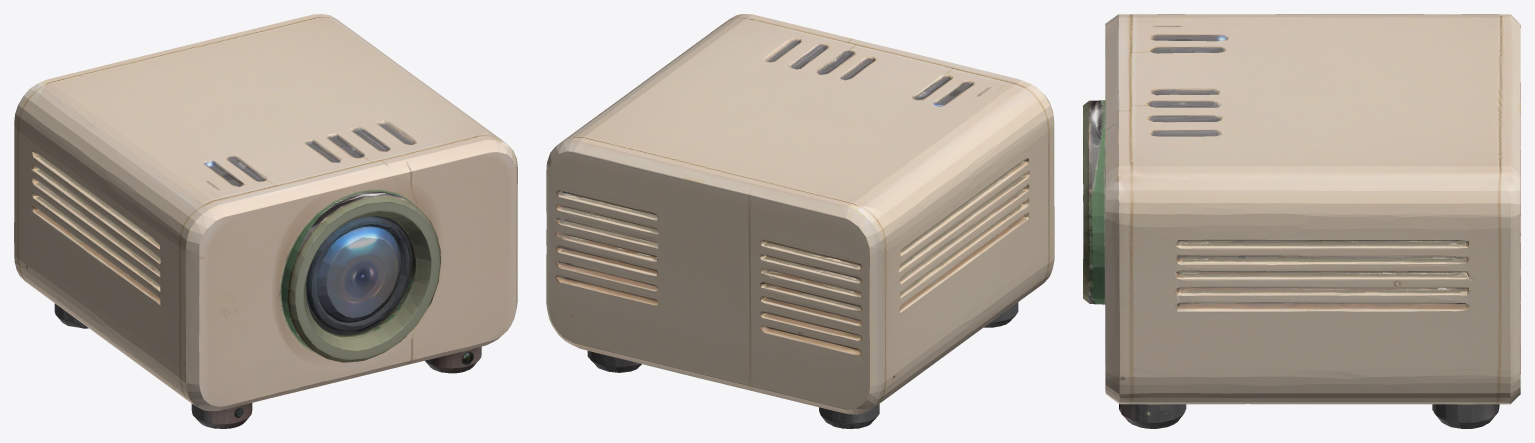
Rendered from Projector_Nostalgia_0618212115_texture.fbx.
The picture shows the model from 3 angles, left to right: view 1: azimuth 30°, elevation 25°; view 2: azimuth 150°, elevation 25°; view 3: azimuth 270°, elevation 25°; orthographic projection. The views are drawn at different scales.
Parts seen in each view (by area): view 1: temp; view 2: temp; view 3: temp.
Boxes of the visible parts, left/top/right/bottom form: temp: left=14, top=14, right=517, bottom=428; temp: left=546, top=14, right=1054, bottom=428; temp: left=1083, top=14, right=1520, bottom=428.
Bounding box in the file's own units: 200 × 134 × 200.
Materials: 1 (1 with a texture image).
